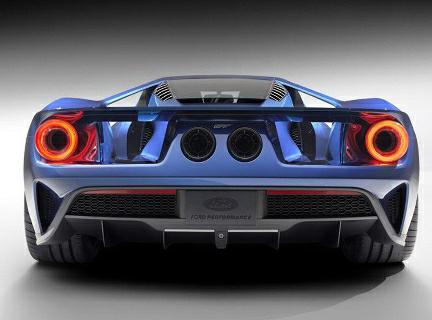福特-GT: (19, 71, 423, 280)
